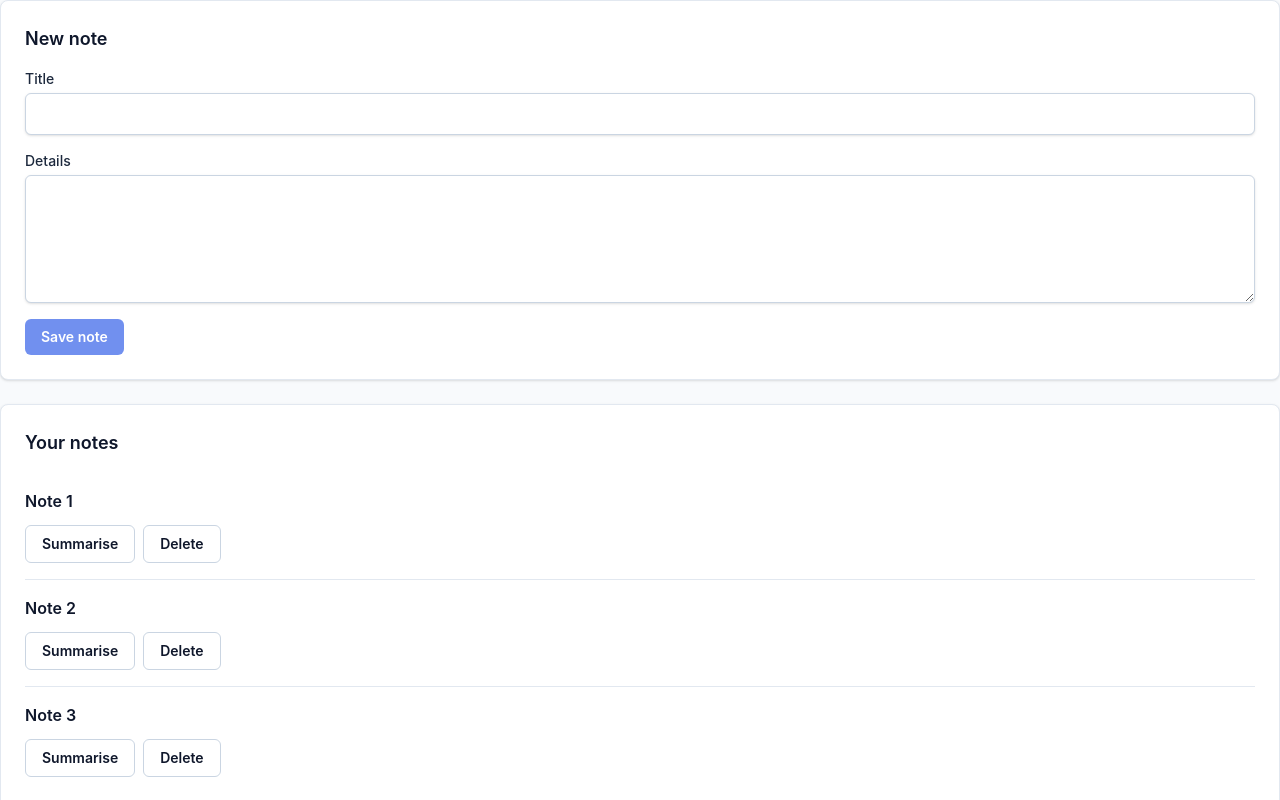
Test: Dashboard notes list (T-86) › hides Show more after deleting from a fully loaded list
This screenshot has width=1280, height=800.
expect the heading "Note 3" is shown: met, box left=25, top=705, right=76, bottom=725
Click the button with aria-label "Delete Note 1": (182, 544) left=143, top=525, right=221, bottom=563
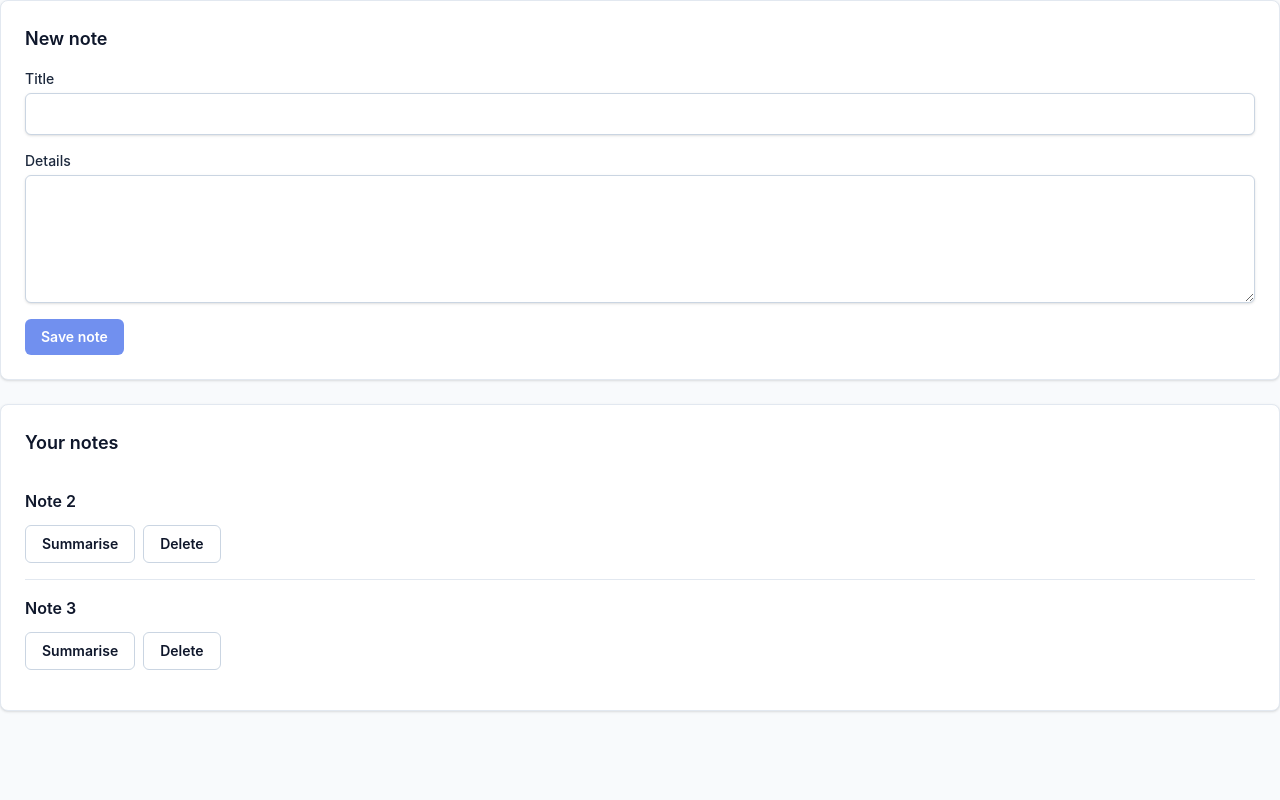
expect the heading "Note 1" is gone: met
